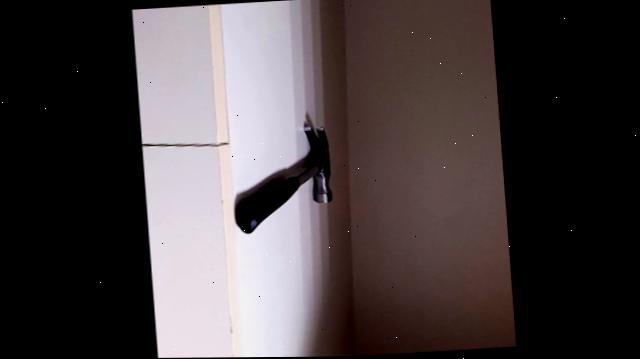hammer: (227, 116, 347, 246)
